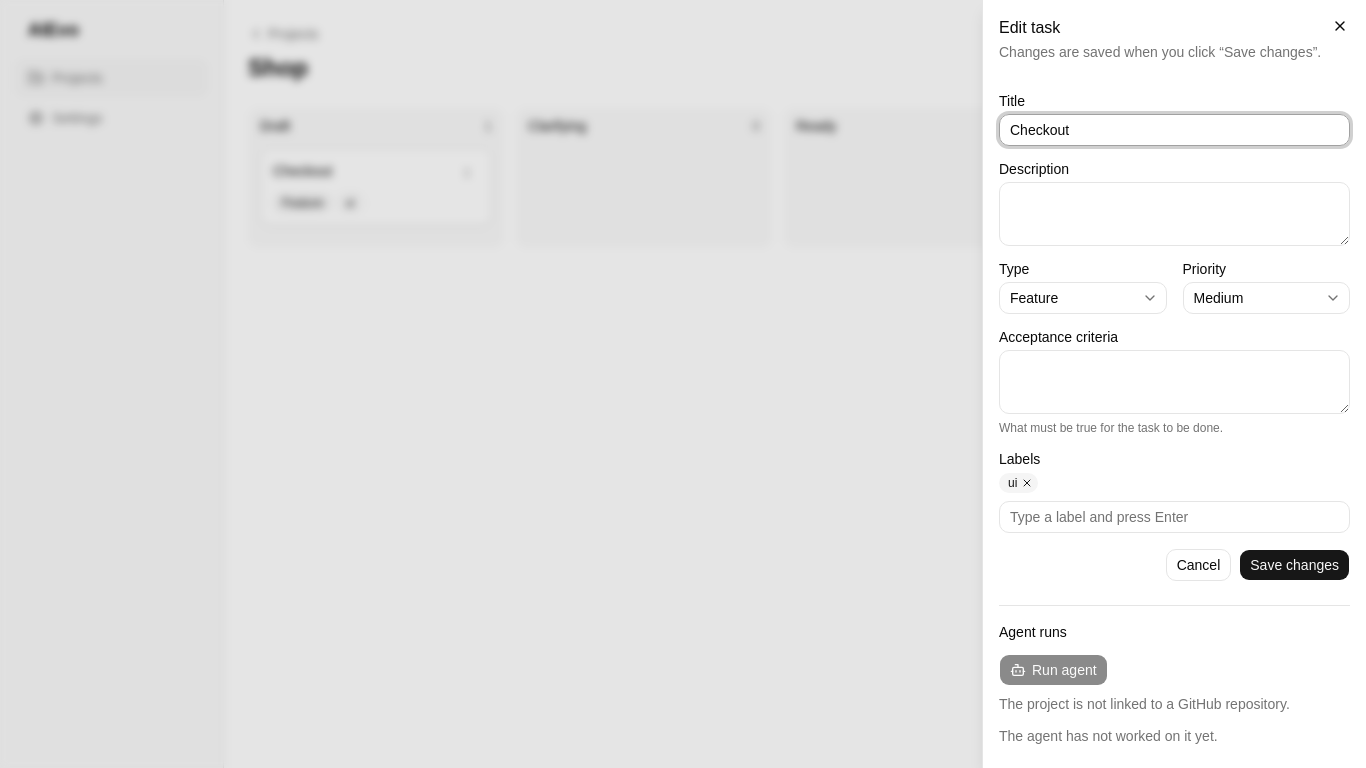
Scenario: TaskSheet › closes without a request when nothing changed
The width and height of the screenshot is (1366, 768).
Expected: the field labelled "Title" is shown, [999,114,1350,146]
Click the button "Save changes": (1295,565) [1239,549,1350,581]
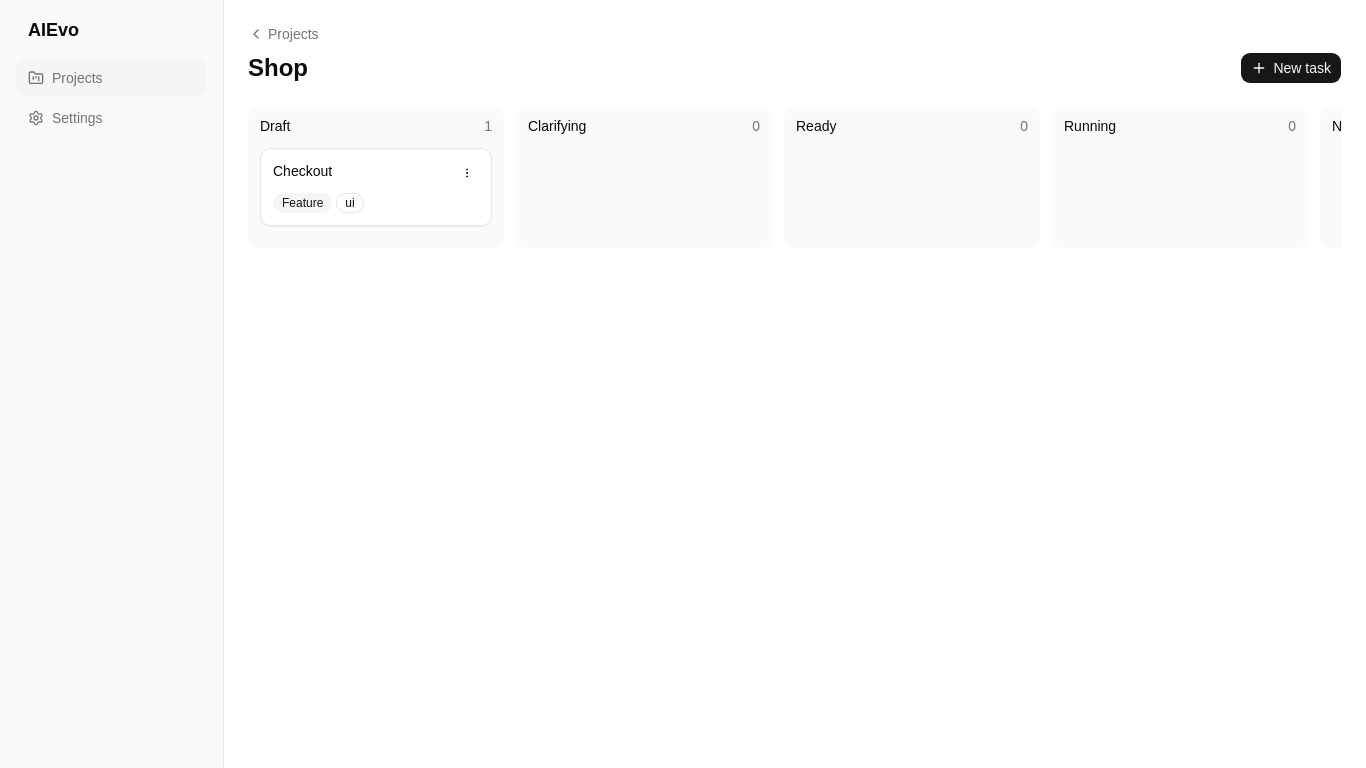
Expected: the dialog is gone
